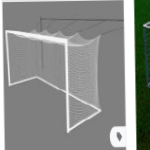goals: (4, 25, 103, 134)
